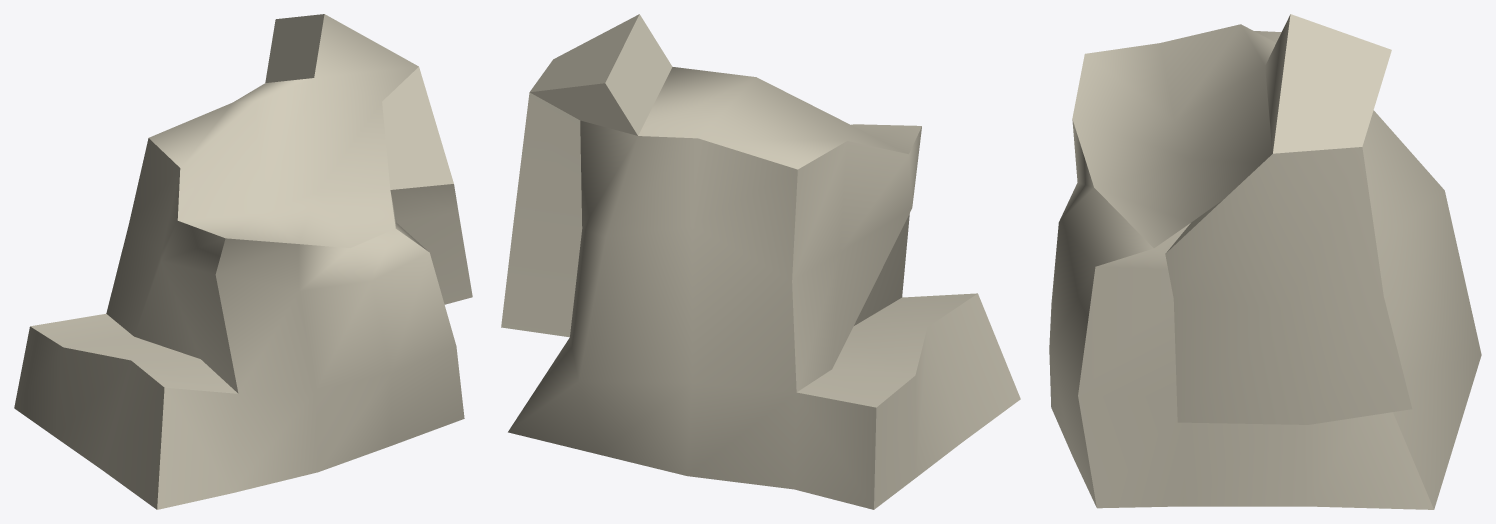
File: Rock1.fbx
The picture shows the model from 3 angles, left to right: view 1: azimuth 30°, elevation 25°; view 2: azimuth 150°, elevation 25°; view 3: azimuth 270°, elevation 25°; orthographic projection. The views are drawn at different scales.
Visible parts, largest first — view 1: pCube1; view 2: pCube1; view 3: pCube1.
Part boxes in pixels (bbox=[...]): pCube1: bbox=[14, 14, 472, 509]; pCube1: bbox=[501, 14, 1020, 509]; pCube1: bbox=[1049, 14, 1481, 509].
Size of the model in its own units: 6.97 by 6.52 by 5.61.
